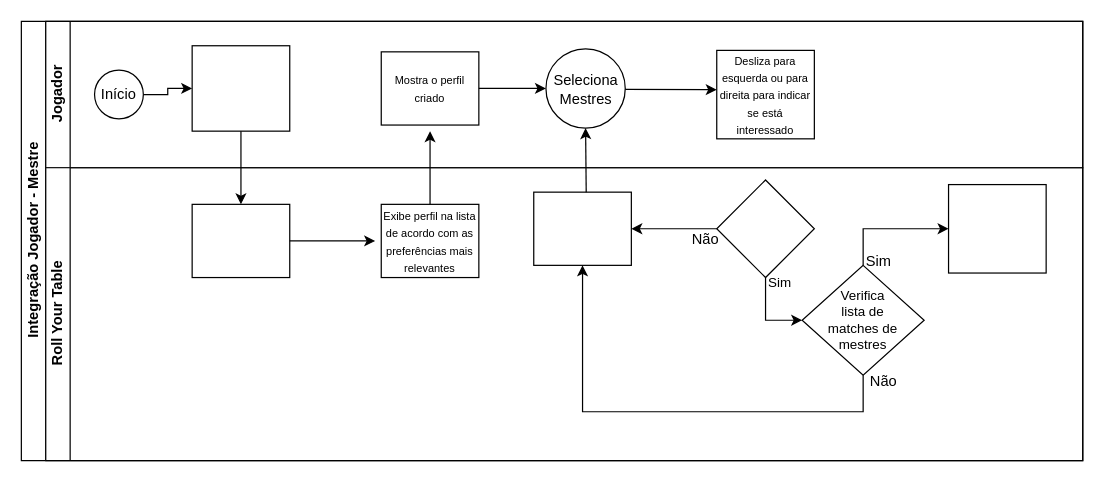
Some shapes in this 1104 by 482 pixel diagram are drawn without their labels. The centre of each missing label's shape, as x and y in pixels:
Abre um chat que possibilita a conversa entre ambos os usuários: the point at 996,228
Cria perfil com as preferências: the point at 240,240
Escolhe as preferência de jogo tais como gênero, localização, tipo de jogo: the point at 240,88
Está interessado?: the point at 765,228
Oculta Mestre: the point at 582,228
